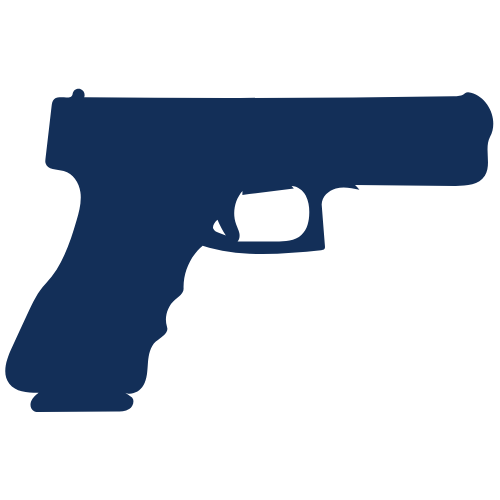gun: (1, 87, 498, 421)
